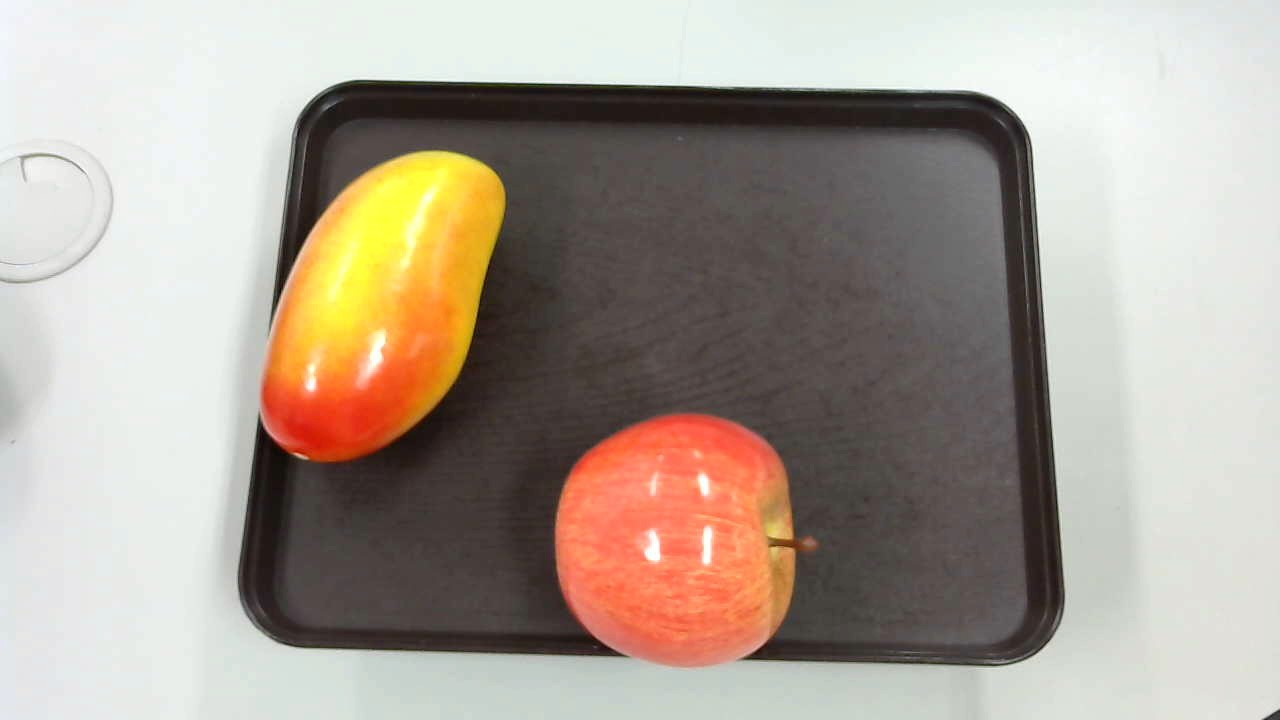red apple: (552, 412, 824, 673)
red mango: (248, 149, 509, 474)
